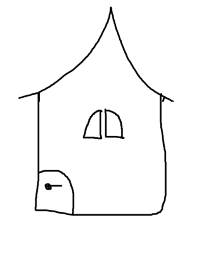closed_window: (77, 106, 133, 150)
door: (30, 165, 81, 223)
single_line_roof: (16, 3, 186, 110)
wall: (30, 88, 172, 220)
